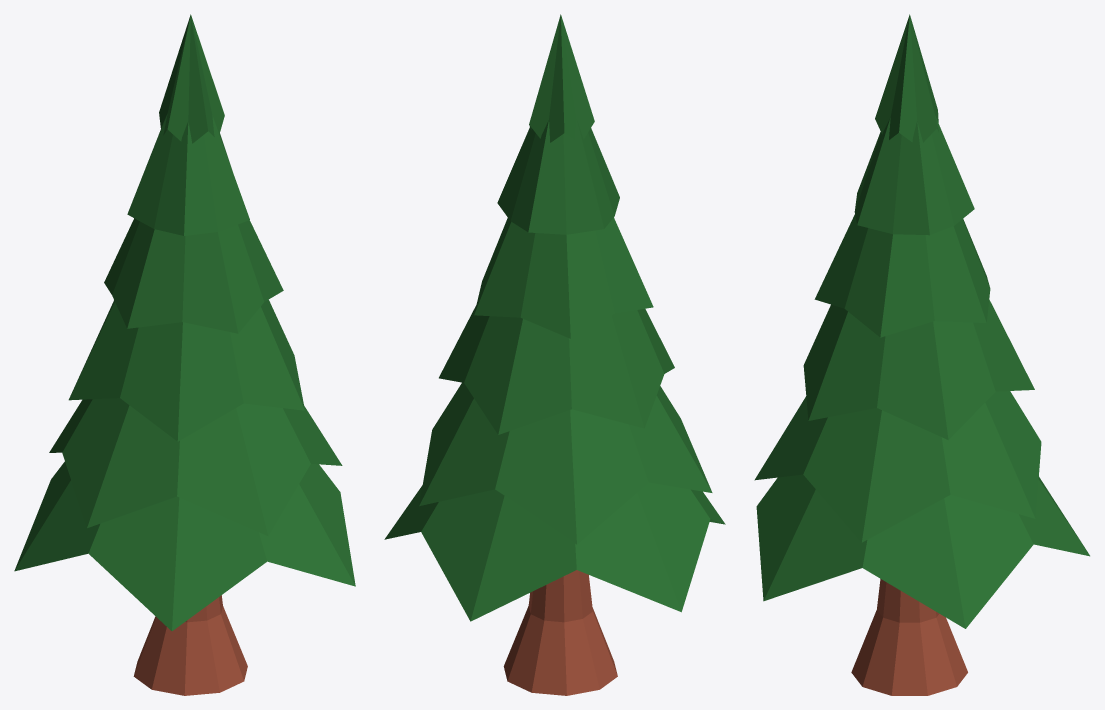
File: pinetreeforest.fbx
3 views of the same model, side by side, from view 1: azimuth 30°, elevation 25°; view 2: azimuth 150°, elevation 25°; view 3: azimuth 270°, elevation 25° (orthographic).
Visible parts, largest first — view 1: Cylinder.001; view 2: Cylinder.001; view 3: Cylinder.001.
Boxes of the visible parts, x1,y1,x2,y2 form: Cylinder.001: (14, 14, 355, 695); Cylinder.001: (384, 14, 725, 695); Cylinder.001: (754, 14, 1089, 695).
Bounding box in the file's own units: 421 × 890 × 412.
